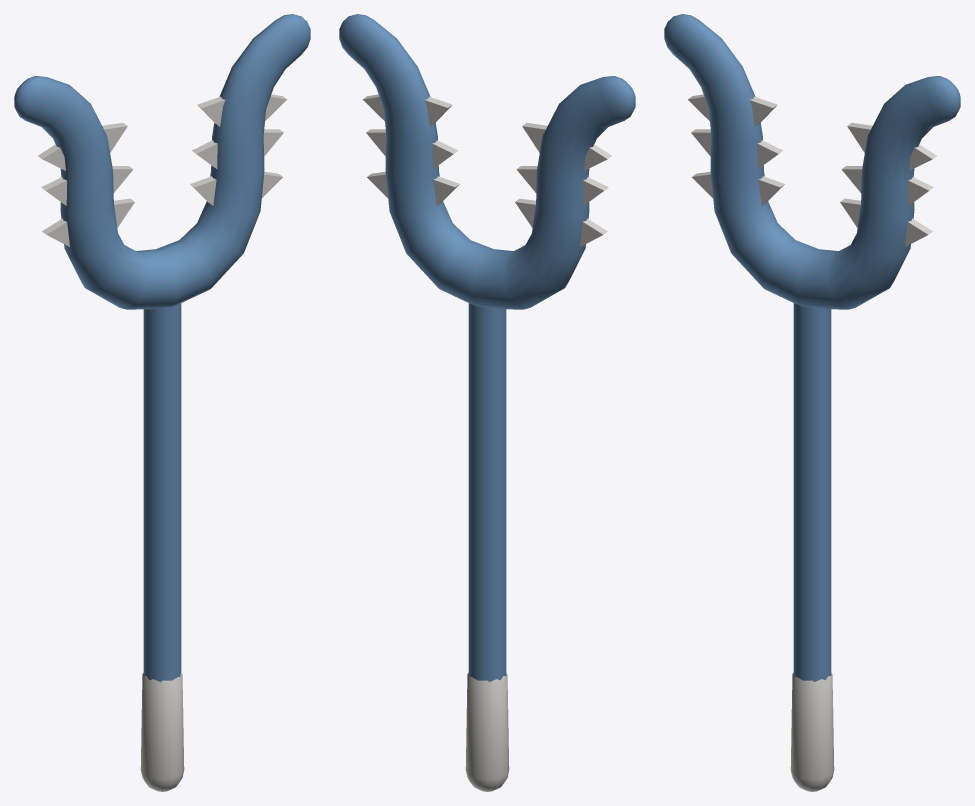
File: item_weapon03.glb
3 views of the same model, side by side, from view 1: azimuth 30°, elevation 25°; view 2: azimuth 150°, elevation 25°; view 3: azimuth 330°, elevation 25° (orthographic).
Visible parts, largest first — view 1: item_weapon03; view 2: item_weapon03; view 3: item_weapon03.
Boxes of the visible parts, left/top/right/bottom form: item_weapon03: left=14, top=14, right=310, bottom=791; item_weapon03: left=339, top=14, right=635, bottom=791; item_weapon03: left=664, top=14, right=960, bottom=791.
Size of the model in its own units: 0.2896 by 0.6988 by 0.0507.
